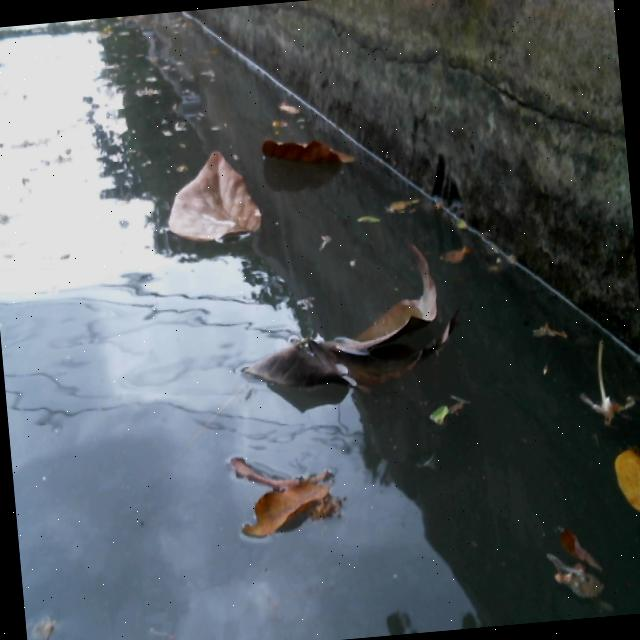Big-leaf: (225, 240, 465, 411), (218, 426, 351, 566), (137, 145, 284, 267), (238, 118, 356, 181)
Small-leaf: (548, 515, 613, 621), (616, 435, 640, 548), (516, 310, 584, 349), (432, 233, 474, 267), (427, 400, 463, 431), (346, 210, 384, 238), (275, 97, 312, 118), (386, 196, 426, 215)
